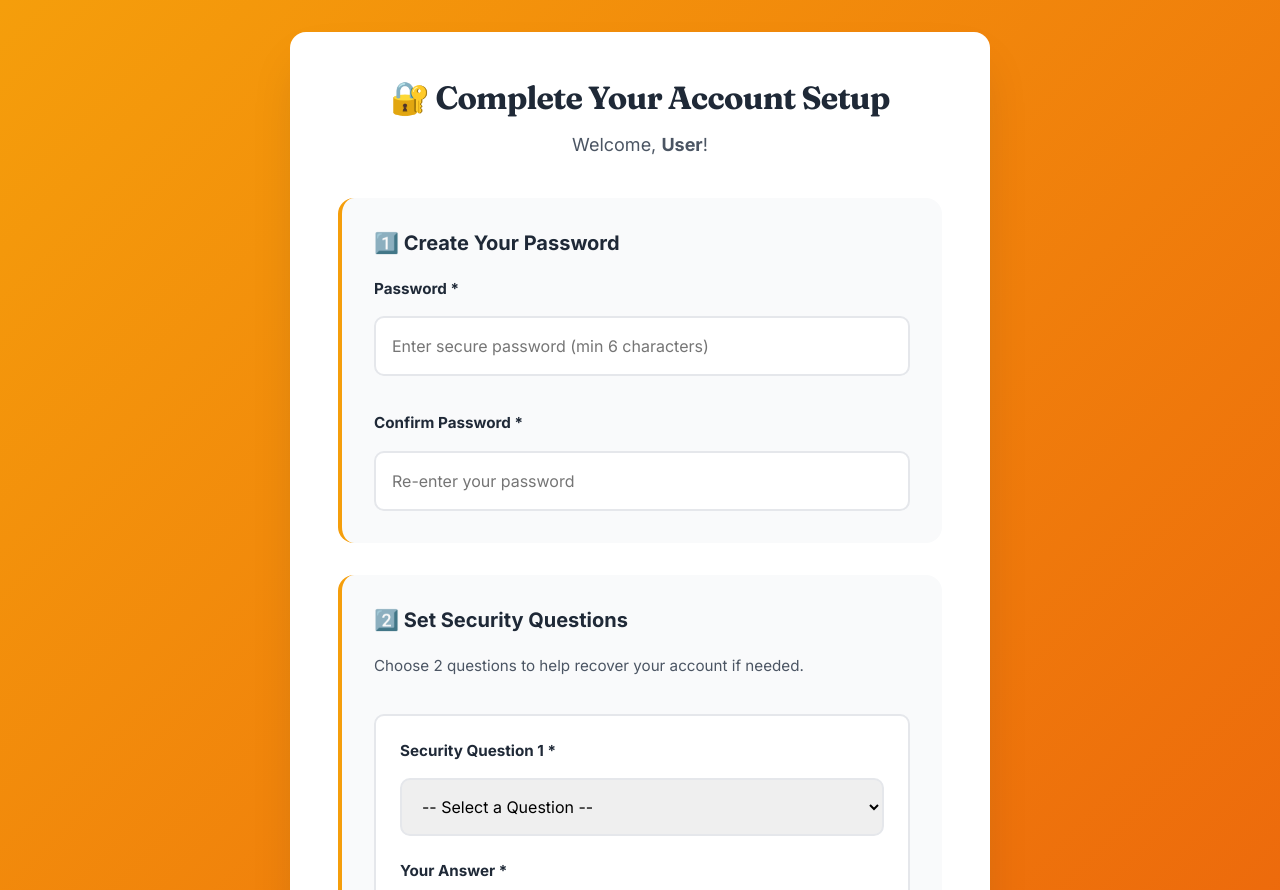
PasswordSetup › shows validation error when passwords do not match
The image size is (1280, 890).
Check: the heading "🔐 Complete Your Account Setup" is shown, box [390,78,890,117]
Type "password123" into the password field with placeholder "Enter secure password (min 6 characters)".
click(642, 346); type("password123")  # box [374,316,910,376]
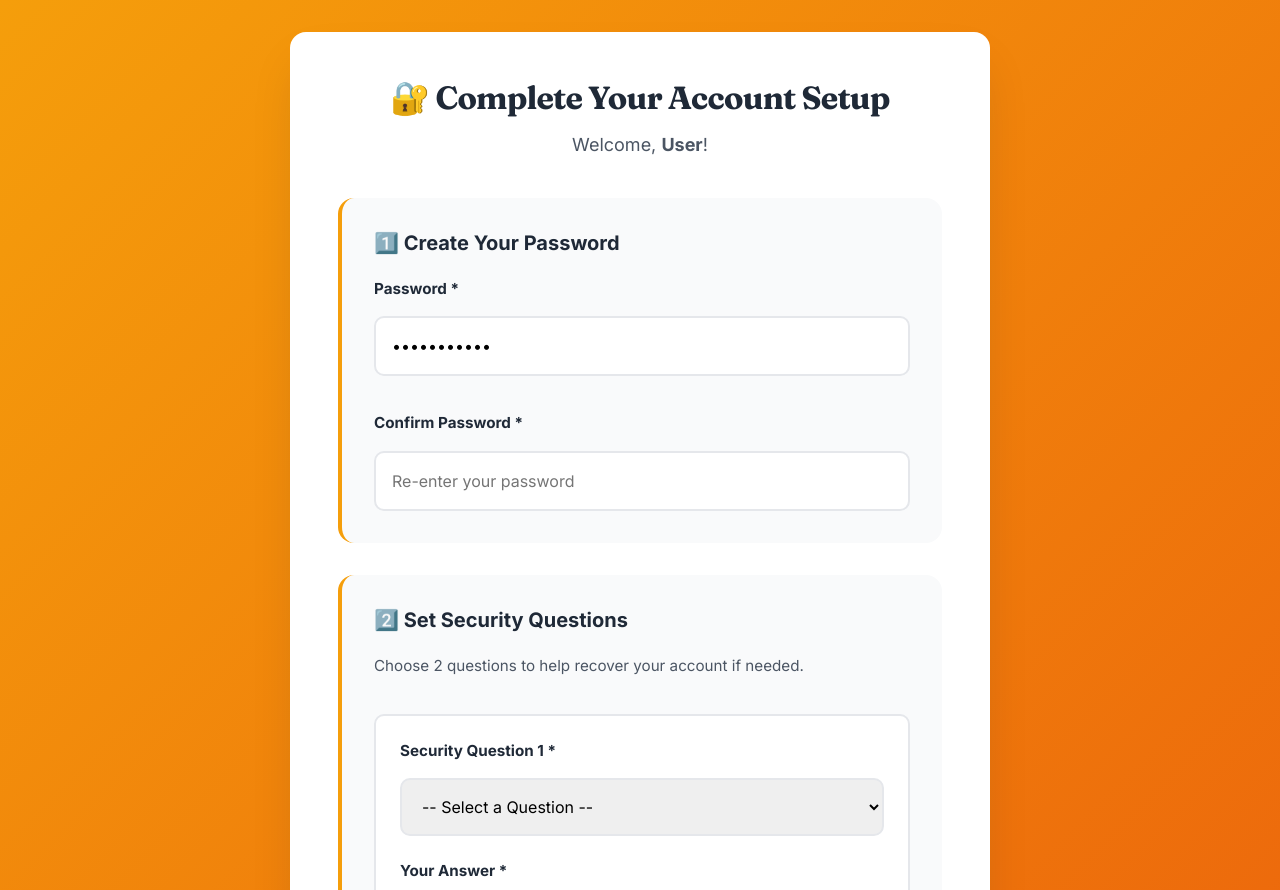
Type "mismatch456" into the password field with placeholder "Re-enter your password".
click(642, 481); type("mismatch456")  # box [374,451,910,511]
(page scrolled)
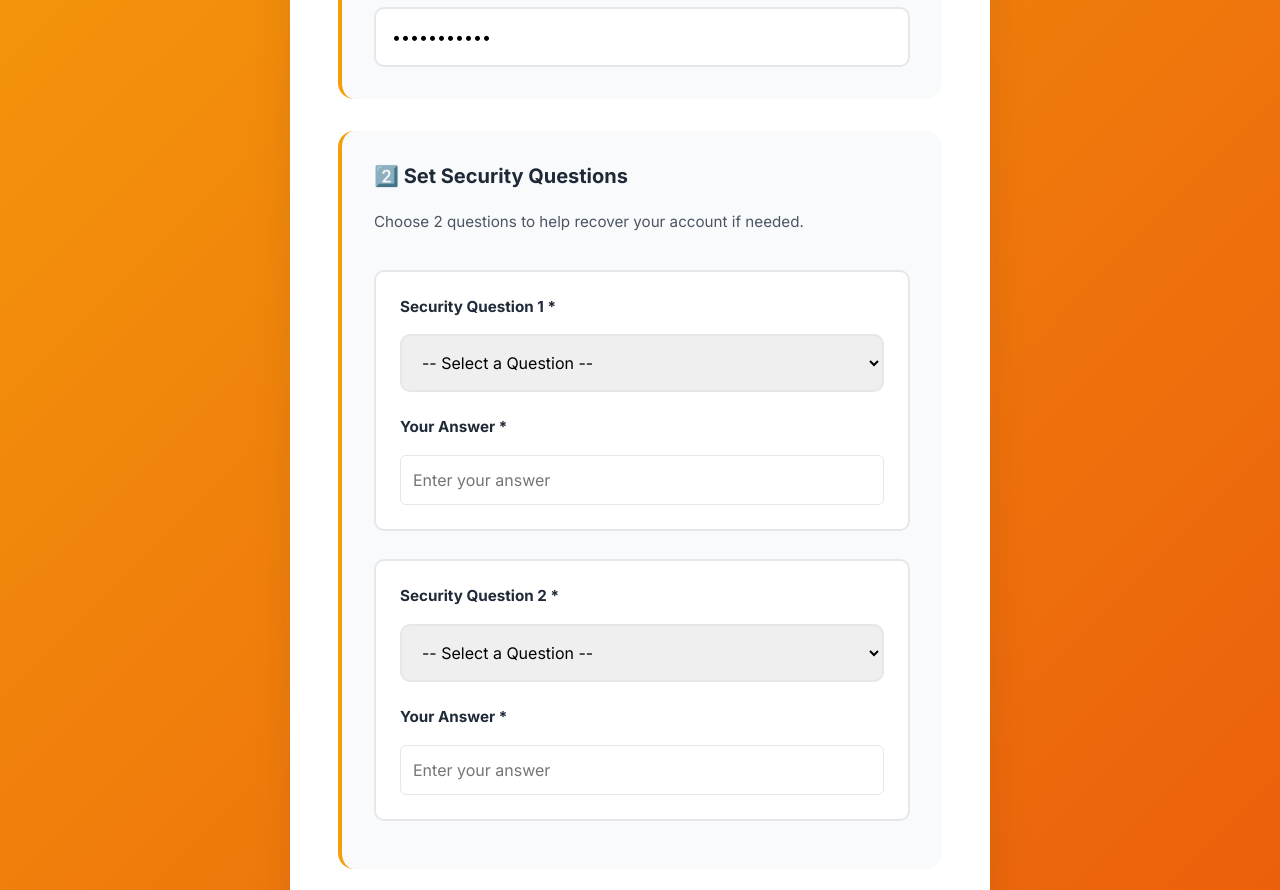
Submit the form
(page scrolled)
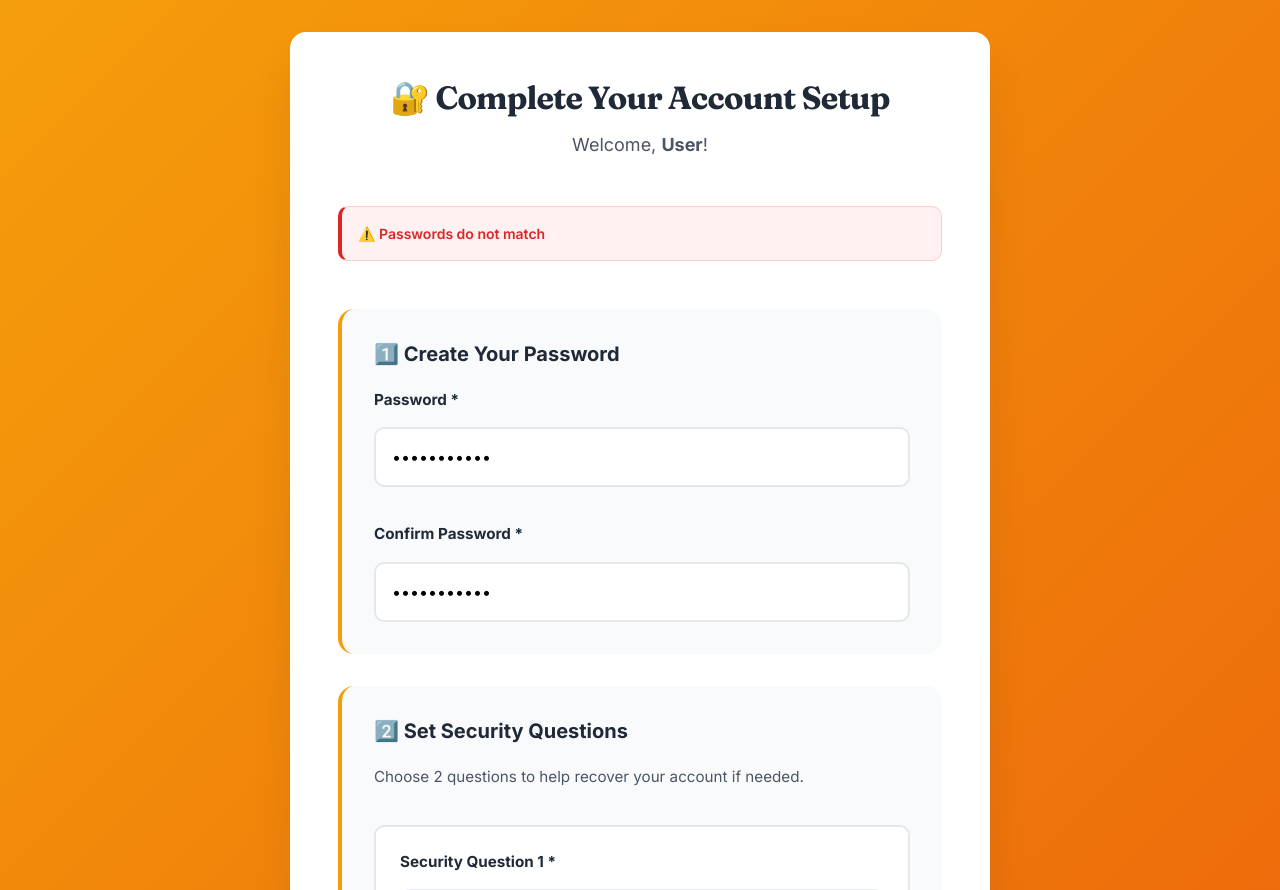
Check: the text "⚠️ Passwords do not match" is shown, box [338,206,942,261]
